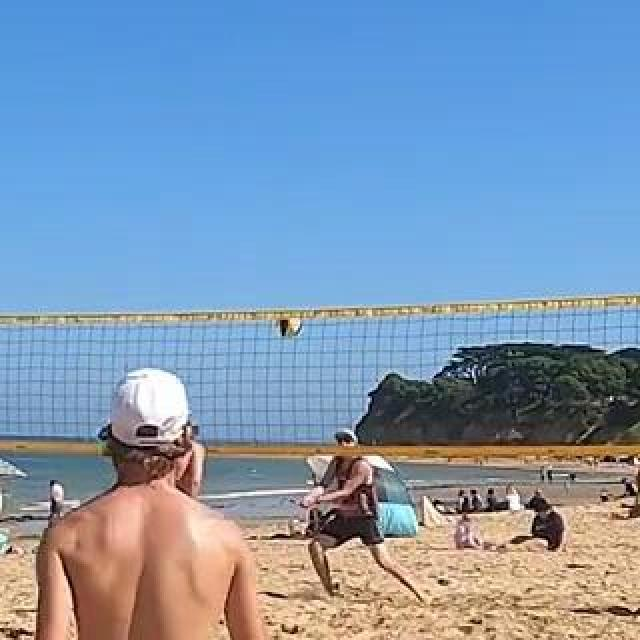volleyball: (279, 315, 305, 335)
